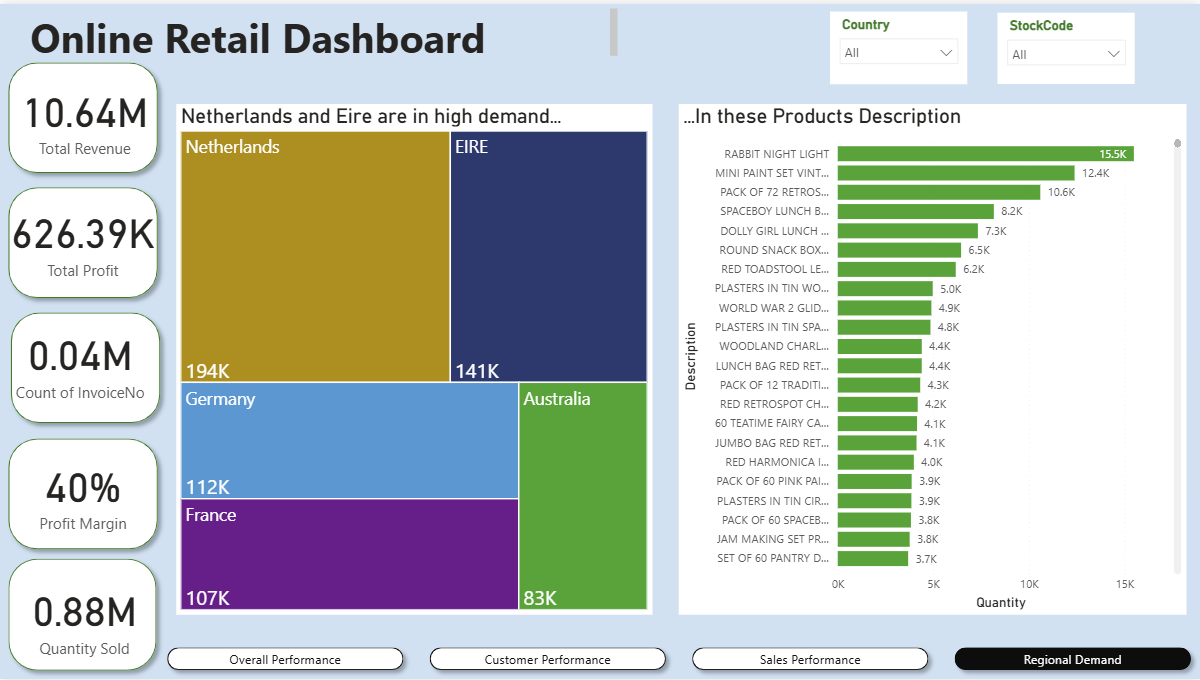

The page's visual inventory and layout, read from the dashboard file:
{"tool":"powerbi","page":{"name":"Regional Demand","canvas":[1280,720],"ordinal":3},"visuals":[{"type":"shape","box":[0,53.6,177.2,136],"z":0},{"type":"shape","box":[0,186.8,177.2,136],"z":1000},{"type":"shape","box":[2.7,320.1,177.2,136],"z":2000},{"type":"shape","box":[0,454.7,177.2,136],"z":3000},{"type":"pageNavigator","box":[169,677.5,1111.3,42.3],"z":4000},{"type":"card","fields":{"Values":["CountNonNull(fact_sales.InvoiceNo)"]},"box":[2.8,321.1,166.2,119.7],"z":5000},{"type":"card","fields":{"Values":["fact_sales.Total Profit"]},"box":[0,199.2,177.2,105.8],"z":6000},{"type":"card","fields":{"Values":["fact_sales.Total Revenue(all)"]},"box":[12.8,75,154.9,94.2],"z":7000},{"type":"shape","box":[0,582.4,175.8,137.4],"z":8000},{"type":"card","fields":{"Values":["fact_sales.Profit Margin"]},"box":[0,464.2,177.6,115.7],"z":9000},{"type":"card","fields":{"Values":["Sum(fact_sales.Quantity)"]},"box":[0,589.7,180.8,130.3],"z":10000},{"type":"textbox","box":[26.8,0,636.6,63.4],"z":11000},{"type":"treemap","title":"Netherlands and Eire are in high demand...","fields":{"Group":["dim_invoice.Country"],"Values":["Sum(fact_sales.Quantity)"]},"box":[187.5,75.5,508.6,576.1],"z":12000},{"type":"clusteredBarChart","title":"...In these Products Description","fields":{"Category":["dim_products.Description"],"Y":["Sum(fact_sales.Quantity)"]},"box":[724.5,75.5,472.2,576.1],"z":13000}]}

Visuals, with their boxes in screenshot pixels (x1, y1, x2, y2), scaled from the page's 1280x720 canvas onto the 1200x680 screenshot:
shape: bbox=[0, 51, 166, 179]
shape: bbox=[0, 176, 166, 305]
shape: bbox=[3, 302, 169, 431]
shape: bbox=[0, 429, 166, 558]
pageNavigator: bbox=[158, 640, 1199, 679]
card - CountNonNull(fact_sales.InvoiceNo): bbox=[3, 303, 158, 416]
card - fact_sales.Total Profit: bbox=[0, 188, 166, 288]
card - fact_sales.Total Revenue(all): bbox=[12, 71, 157, 160]
shape: bbox=[0, 550, 165, 679]
card - fact_sales.Profit Margin: bbox=[0, 438, 166, 548]
card - Sum(fact_sales.Quantity): bbox=[0, 557, 170, 679]
textbox: bbox=[25, 0, 622, 60]
"Netherlands and Eire are in high demand..." treemap: bbox=[176, 71, 653, 615]
"...In these Products Description" clusteredBarChart: bbox=[679, 71, 1122, 615]
